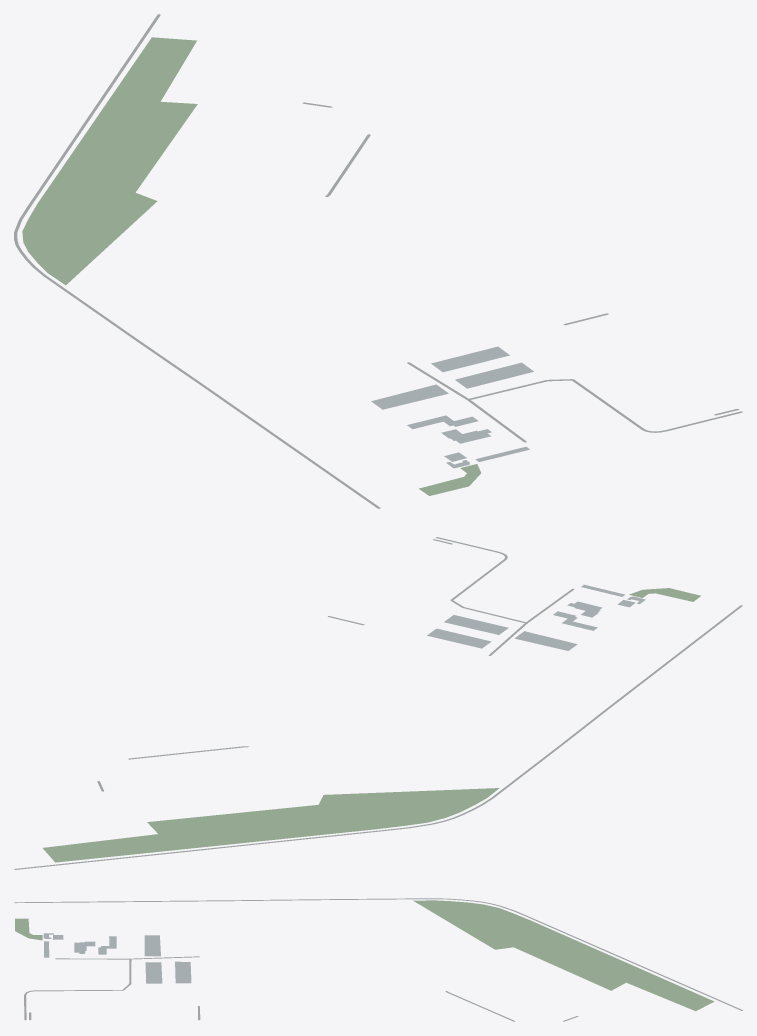
Rendered from -12_3-known-fine.glb.
The picture shows the model from 3 angles, top to bottom: view 1: azimuth 30°, elevation 25°; view 2: azimuth 150°, elevation 25°; view 3: azimuth 270°, elevation 25°; orthographic projection. The views are drawn at different scales.
Size of the model in its own units: 400 by 0.15 by 997.
